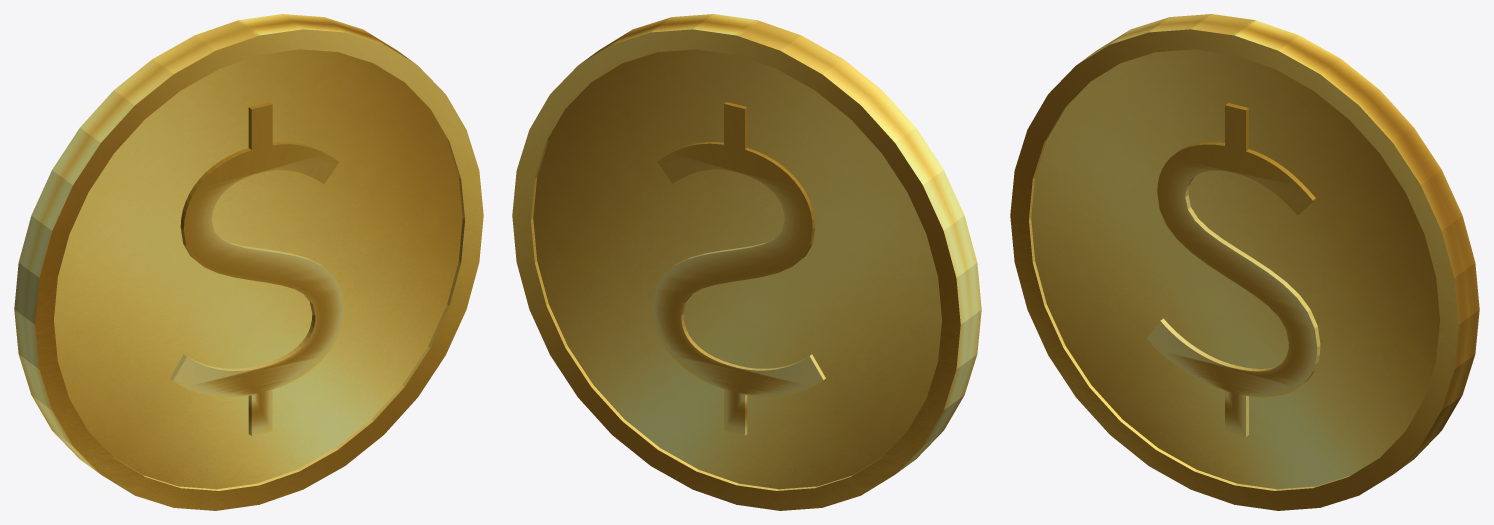
File: Coin.obj
3 renders of one model, left to right at view 1: azimuth 30°, elevation 25°; view 2: azimuth 150°, elevation 25°; view 3: azimuth 330°, elevation 25°, orthographic.
Parts seen in each view (by area): view 1: テキスト.001; view 2: テキスト.001; view 3: テキスト.001.
Part boxes in pixels (x1,y1,x2,y2): テキスト.001: (14,14,483,510); テキスト.001: (512,14,981,510); テキスト.001: (1010,14,1479,510).
Size of the model in its own units: 2 by 2 by 0.1697.
1 material, 1 textured.
